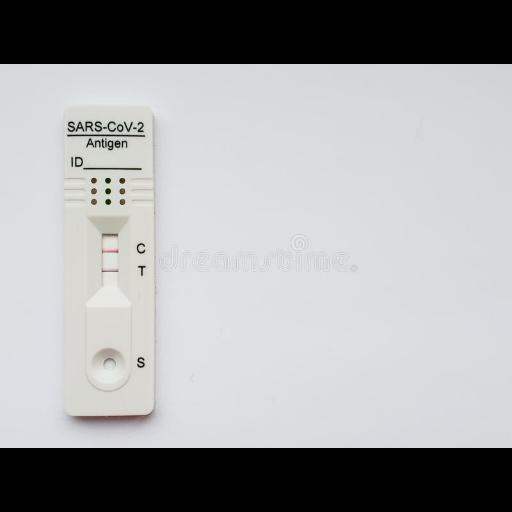Pos: (62, 104, 154, 414)
